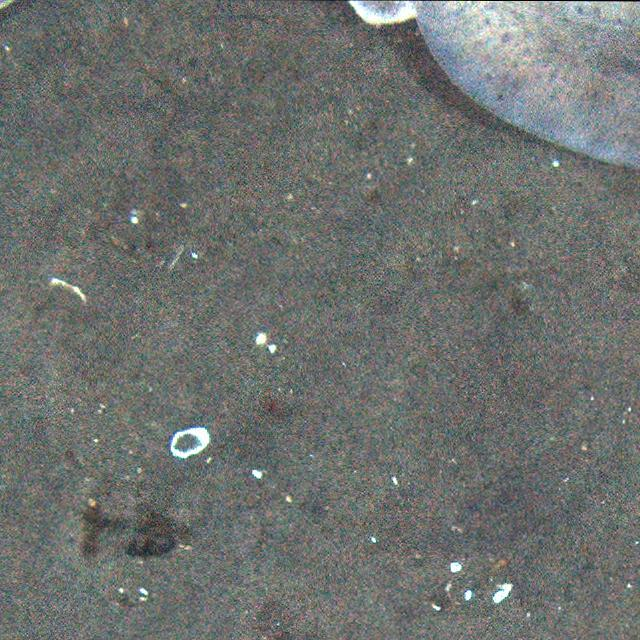skate: (331, 0, 640, 180)
